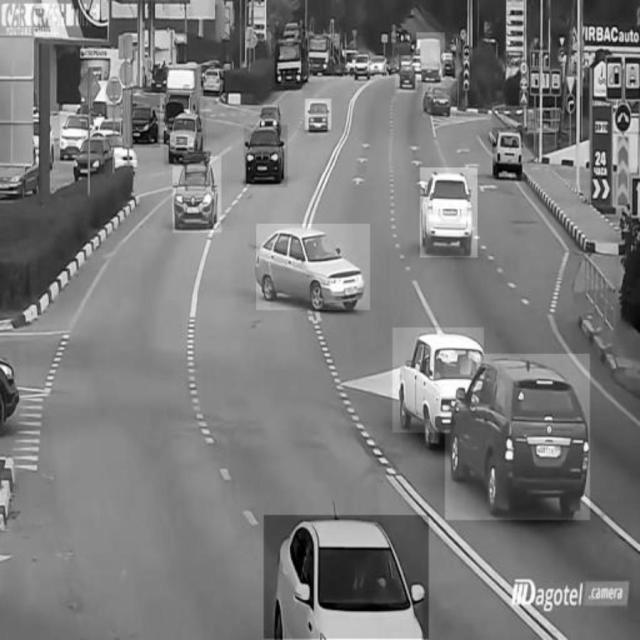vehicle: (446, 354, 590, 520), (264, 515, 429, 639), (257, 224, 370, 310), (393, 328, 484, 432), (420, 168, 477, 258), (173, 156, 221, 232), (165, 97, 207, 165), (244, 126, 288, 188), (0, 348, 26, 421), (276, 27, 308, 84), (74, 130, 109, 178), (130, 96, 160, 148), (492, 128, 522, 175), (417, 33, 445, 80), (423, 83, 457, 119), (60, 106, 80, 158), (395, 56, 417, 93), (305, 99, 331, 129), (202, 65, 226, 93), (354, 52, 374, 82)
